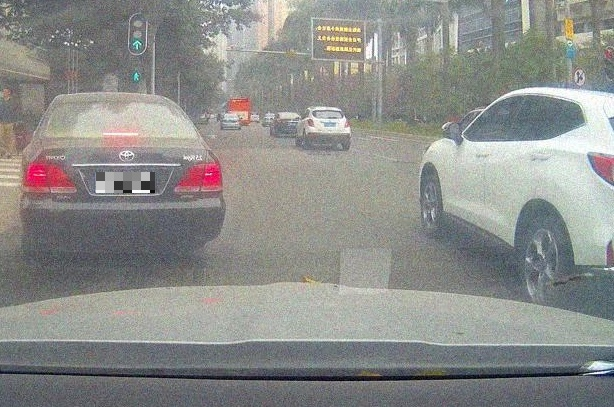L_light: (22, 162, 77, 193), (307, 118, 315, 127)
R_light: (173, 163, 223, 192), (344, 119, 350, 128)
T_light: (102, 131, 139, 137), (323, 110, 330, 112)
day-brake: (20, 92, 226, 254)
day-no: (307, 106, 351, 150)
plate_1: (96, 172, 155, 193)
